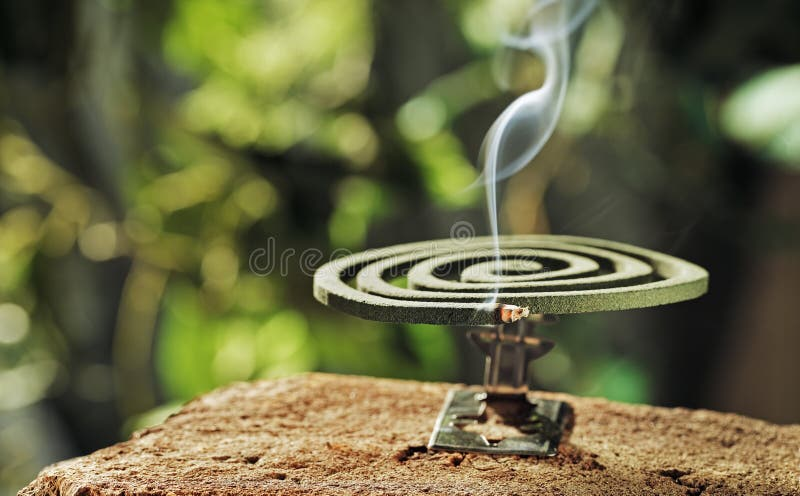Open-Flame-Hazard: (308, 195, 730, 468)
